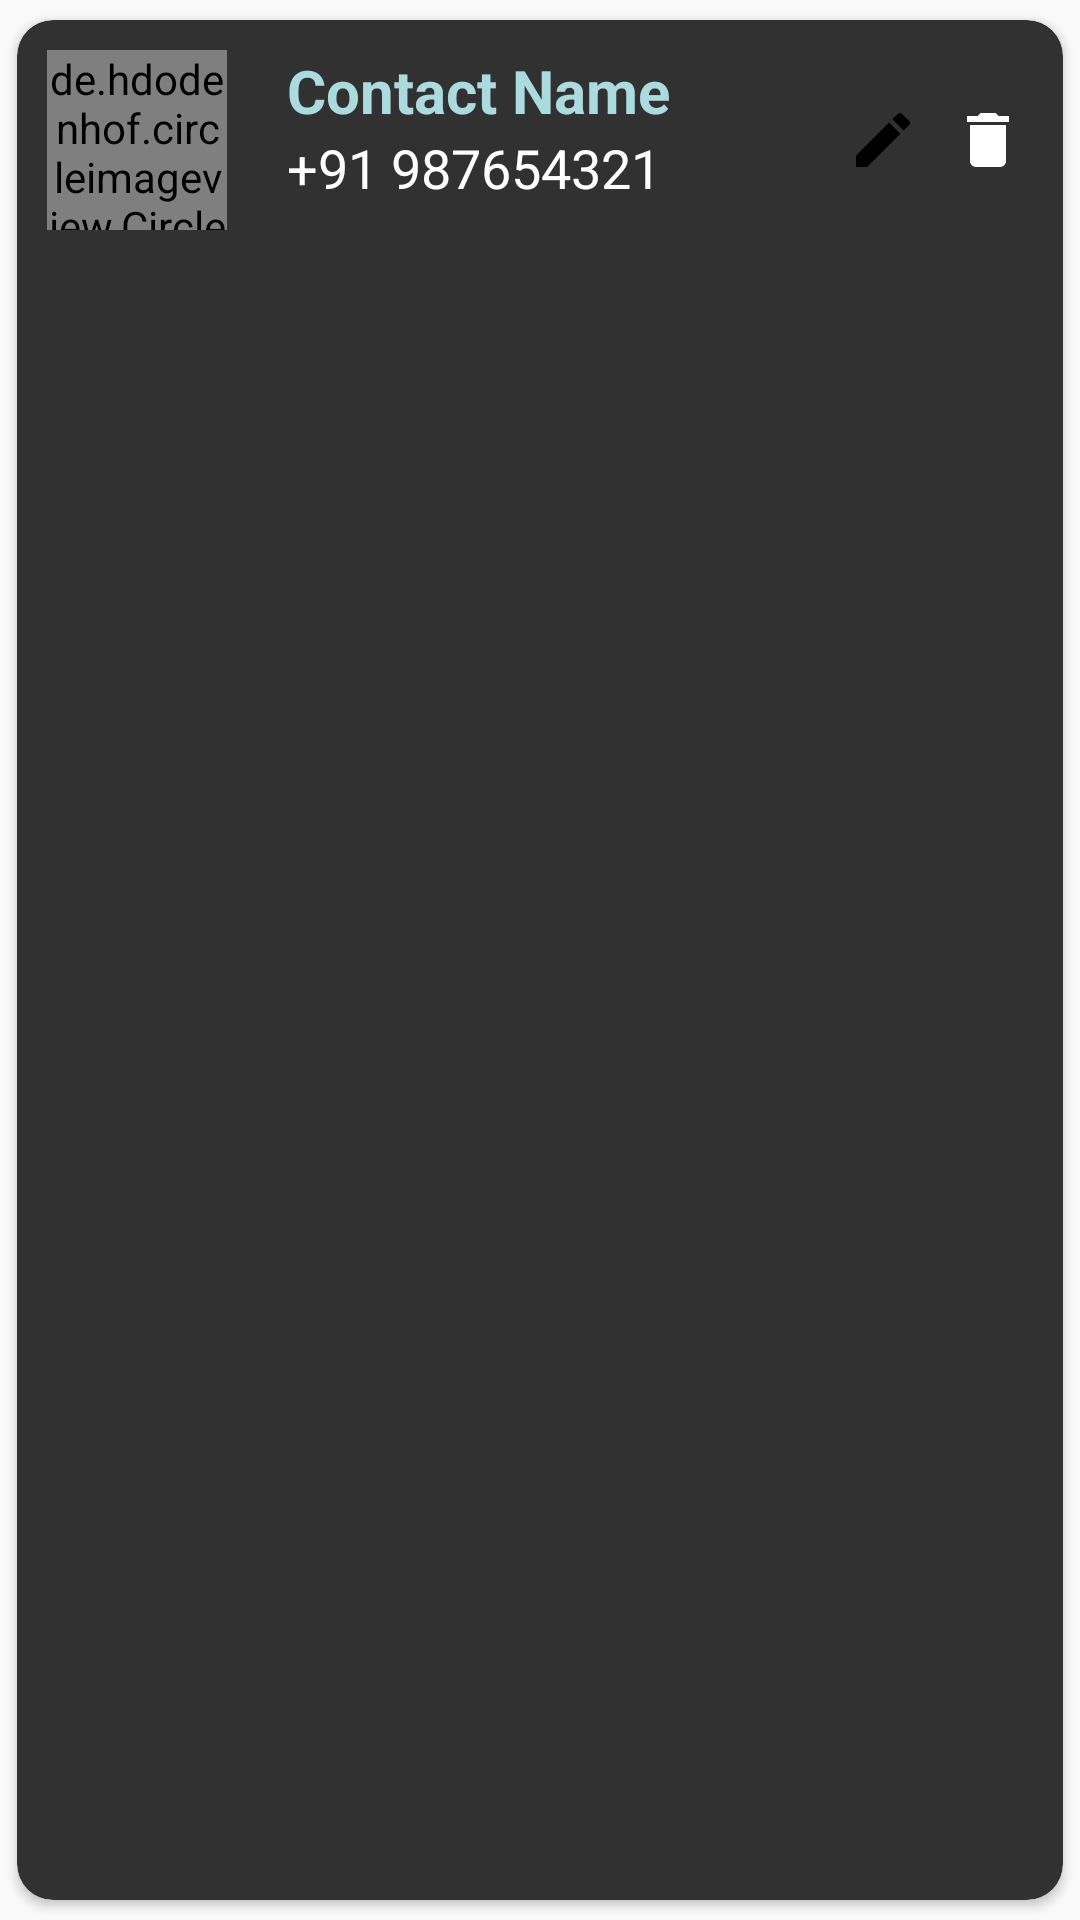

Screen size 1080px×1920px. Icon name, then its center in pixels as [x,y]:
delete: [988,140]
edit: [883,140]
